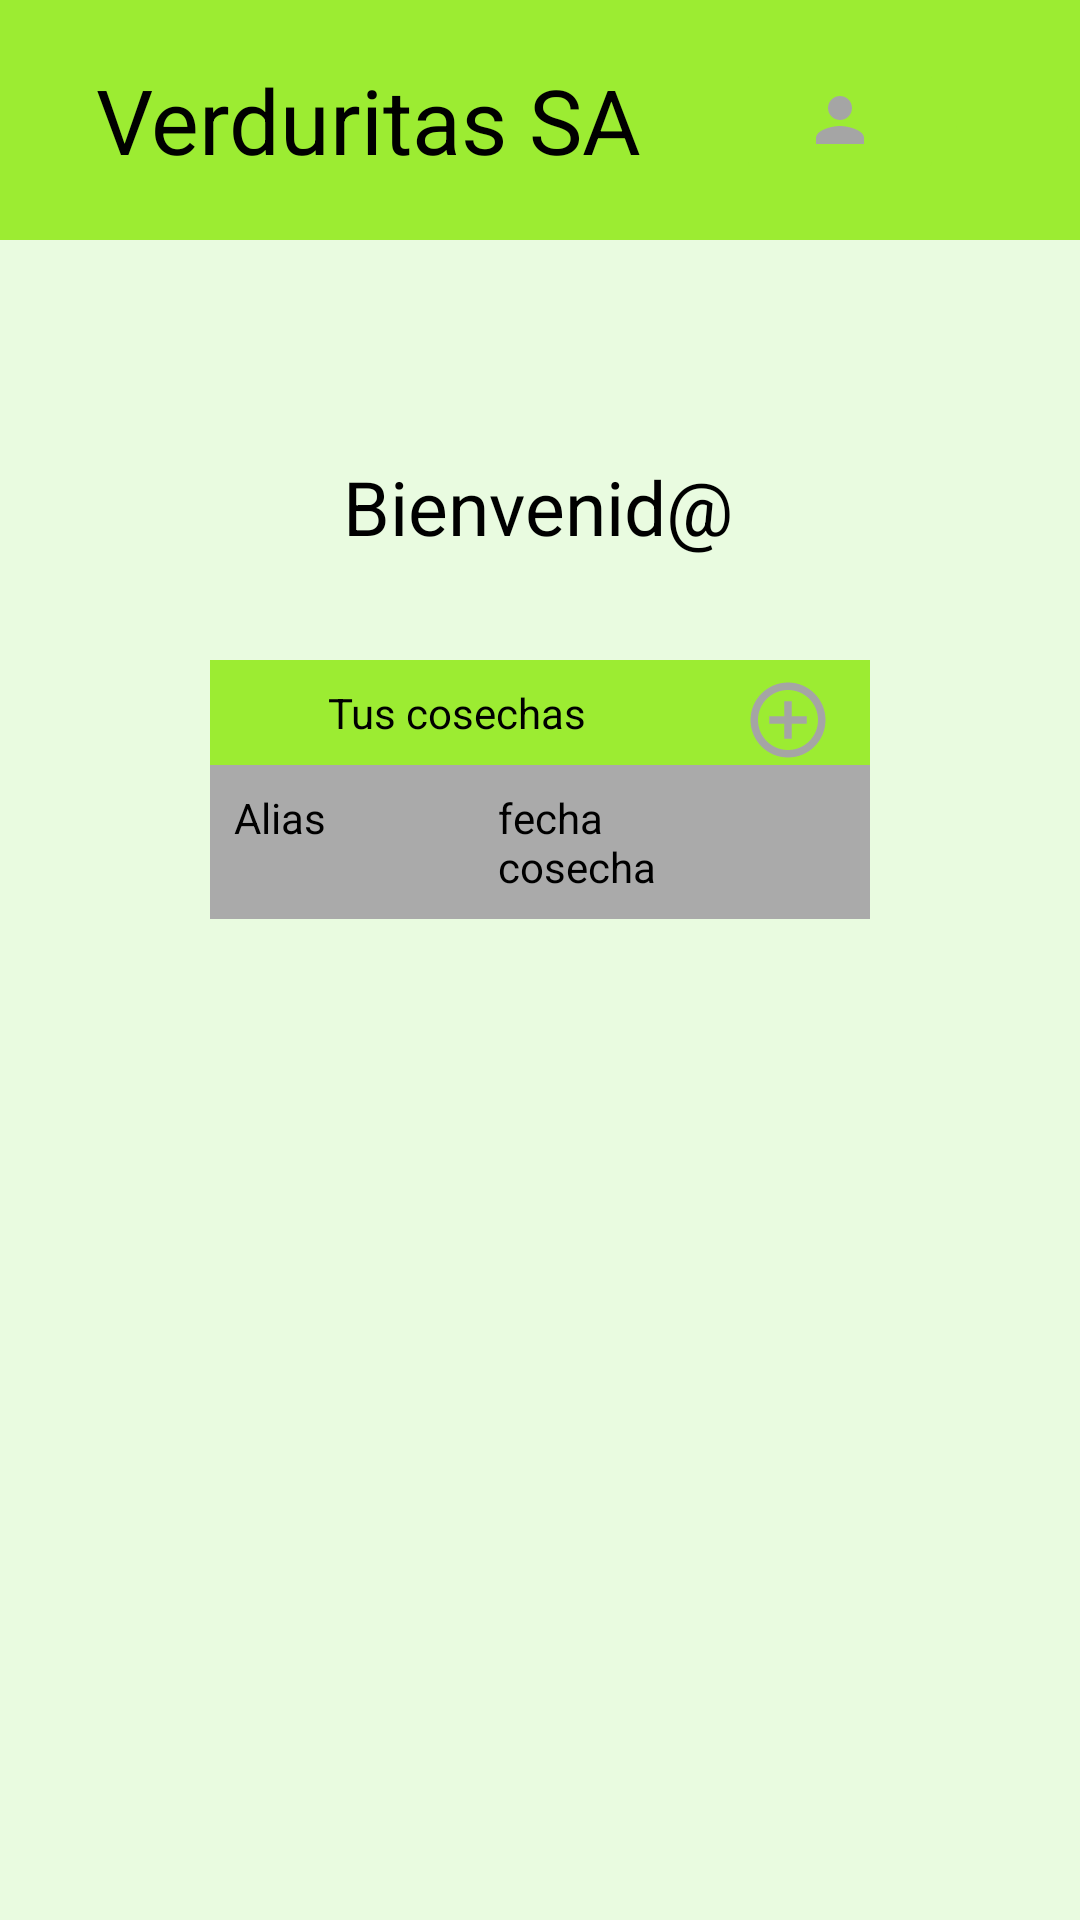

Named icons in this screenshot (1080px×1920px) and their bounding boxes, (x1, y1, x2, y2):
person: (816, 96, 864, 144)
